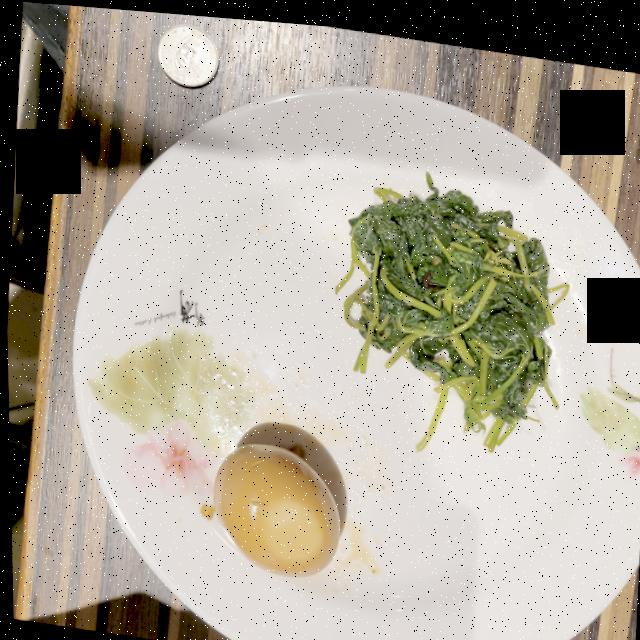coin: (156, 21, 218, 83)
soy egg: (210, 439, 337, 572)
sweet potato leaves: (334, 166, 566, 443)
